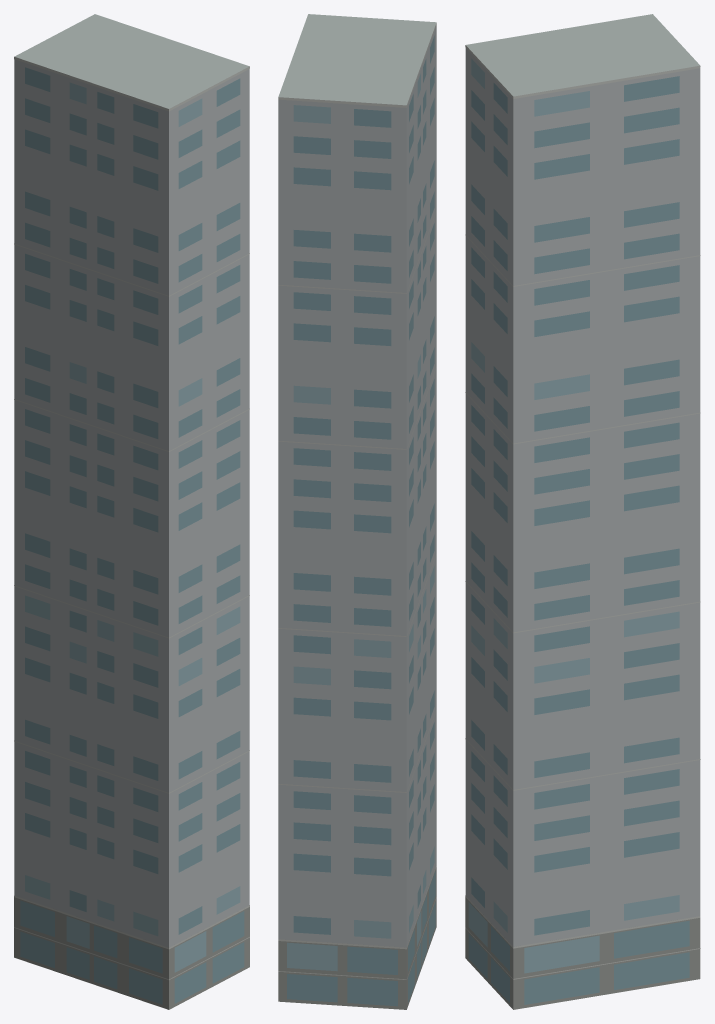
File: residential-9d29a4bd-ddff-4b71-8521-b7a58e7d5d0c.glb
3 views of the same model, side by side, from view 1: azimuth 30°, elevation 25°; view 2: azimuth 150°, elevation 25°; view 3: azimuth 270°, elevation 25° (orthographic).
Parts seen in each view (by area): view 1: residential-9d29a4bd-ddff-4b71-8521-b7a58e7d5d0c.tmp; view 2: residential-9d29a4bd-ddff-4b71-8521-b7a58e7d5d0c.tmp; view 3: residential-9d29a4bd-ddff-4b71-8521-b7a58e7d5d0c.tmp.
Boxes of the visible parts, bbox=[...] form: residential-9d29a4bd-ddff-4b71-8521-b7a58e7d5d0c.tmp: bbox=[14, 14, 249, 1009]; residential-9d29a4bd-ddff-4b71-8521-b7a58e7d5d0c.tmp: bbox=[278, 14, 436, 1009]; residential-9d29a4bd-ddff-4b71-8521-b7a58e7d5d0c.tmp: bbox=[465, 14, 700, 1009].
Size of the model in its own units: 17.17 by 88.45 by 20.64.
